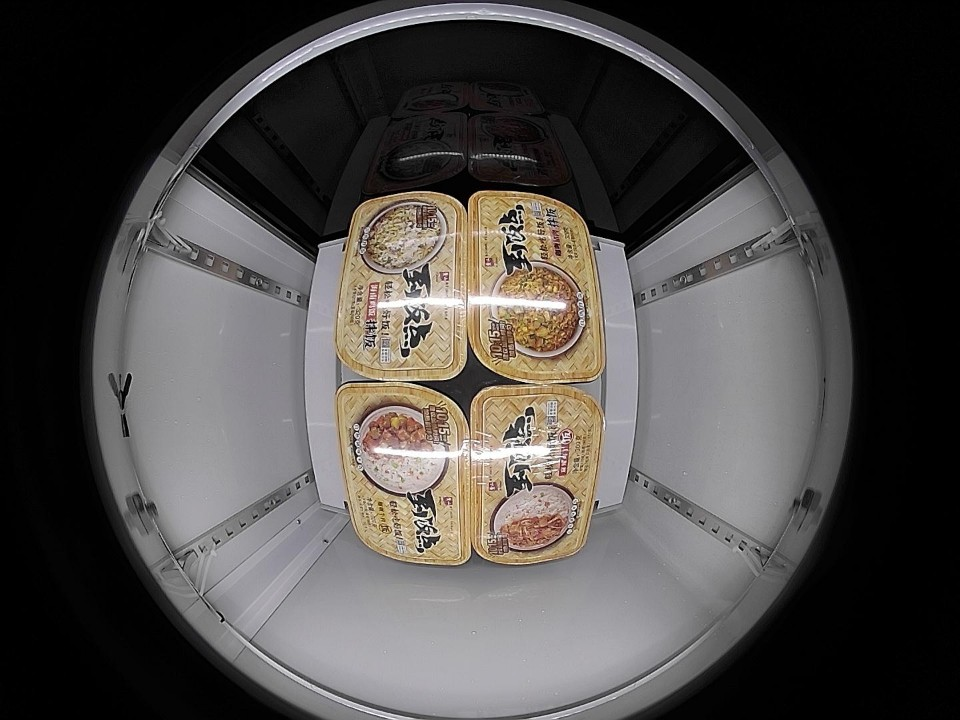daofandian1: (336, 189, 471, 383)
daofandian2: (336, 380, 473, 567)
daofandian3: (468, 189, 607, 383)
daofandian4: (465, 383, 604, 567)
